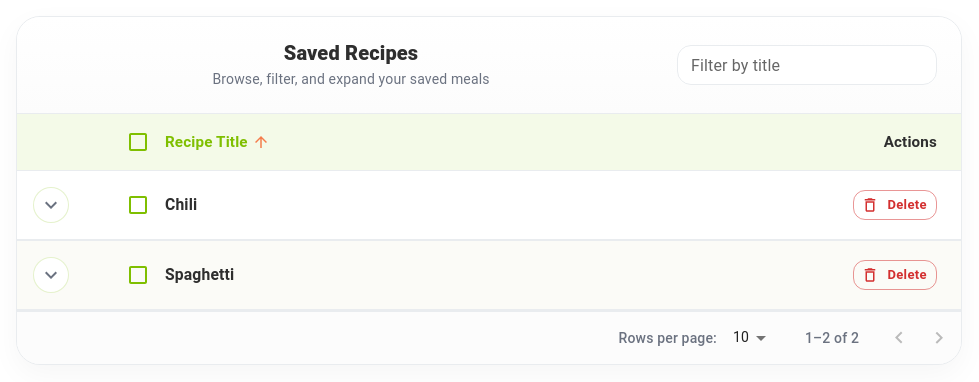
SavedRecipesTable › filters recipes by title
The image size is (979, 382).
Type "spa" into the field labelled "Filter by title" at (807, 65), box x1=677 y1=45 x2=937 y2=85
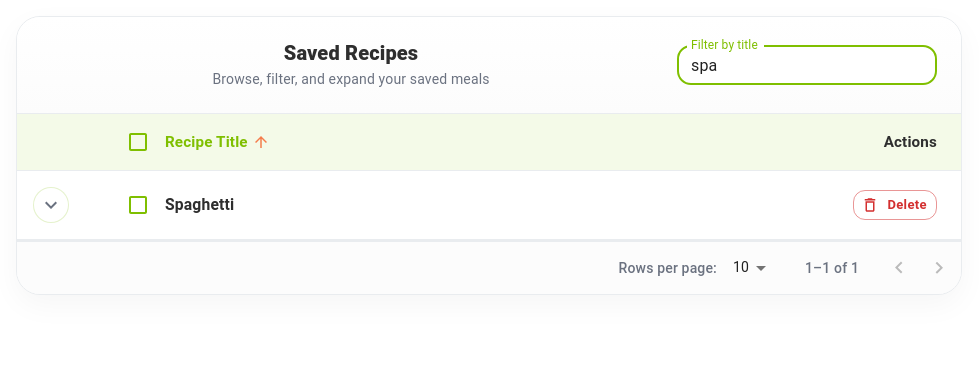
Expected: the column heading "Spaghetti" is shown, x1=165 y1=170 x2=781 y2=240
Expected: the column heading "Chili" is gone
